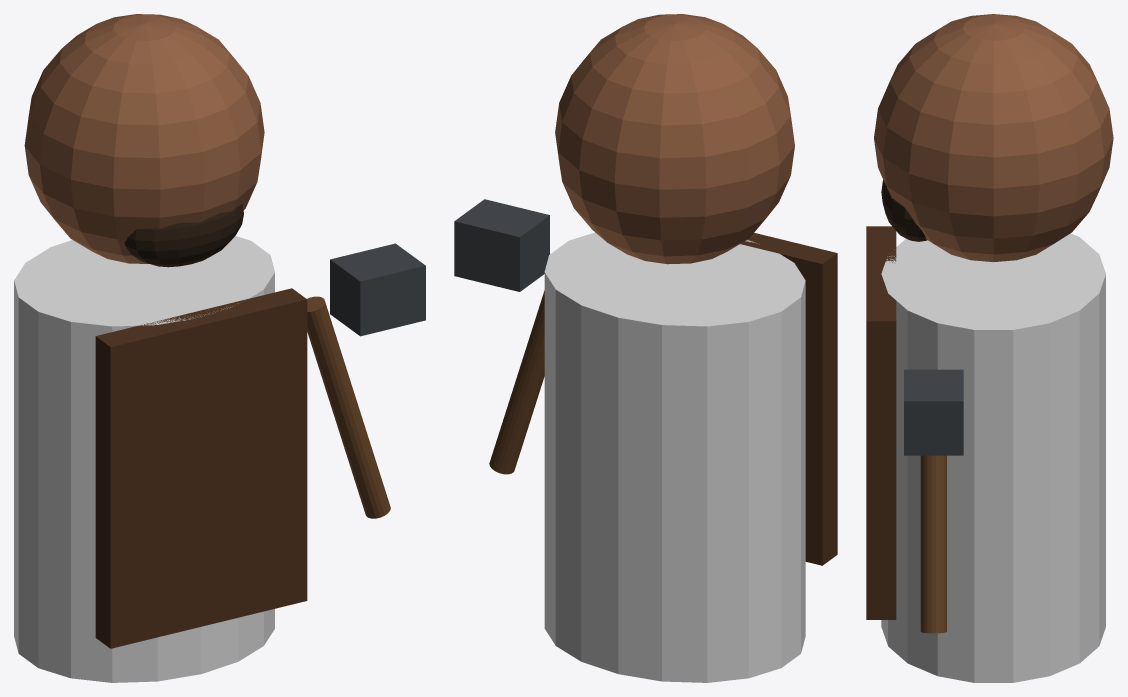
The model's file is smith.5a991d2b.glb.
3 renders of one model, left to right at view 1: azimuth 30°, elevation 25°; view 2: azimuth 150°, elevation 25°; view 3: azimuth 270°, elevation 25°, orthographic.
Visible parts, largest first — view 1: body, accent; view 2: accent, body; view 3: accent, body.
Part boxes in pixels (x1,y1,x2,y2): body: [24, 14, 425, 648]; accent: [14, 236, 274, 682]; accent: [544, 232, 805, 682]; body: [454, 14, 837, 565]; accent: [881, 233, 1105, 682]; body: [866, 14, 1113, 633].
Bounding box in the file's own units: 0.5373 × 0.888 × 0.33.
